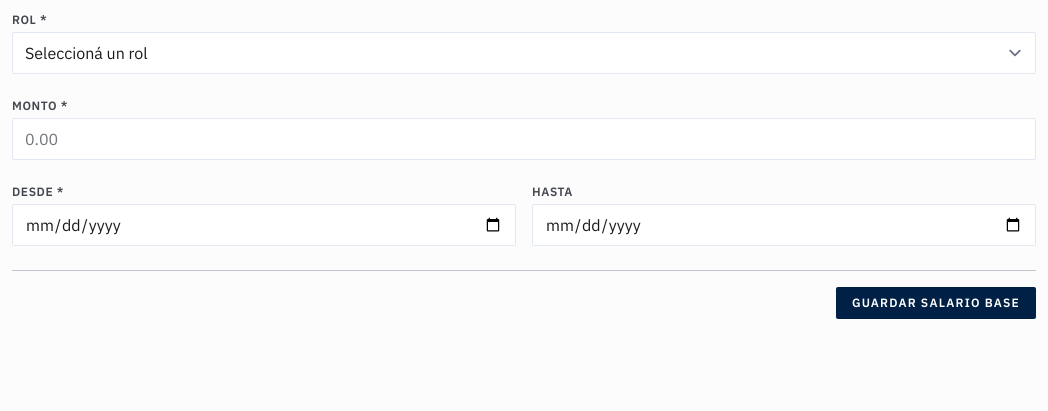
Test: SalarioBaseForm — alta y validaciones › maneja 409/422 de solapamiento sin perder el formulario
Select "PROFESOR" in the dropdown at (524, 53), box [12, 32, 1036, 74]
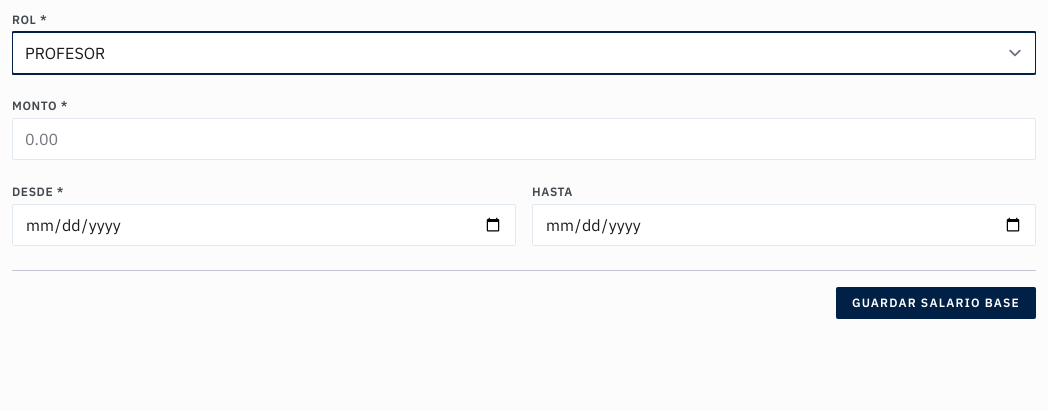
Type "80000" into the number field with placeholder "0.00" at (524, 139), box [12, 118, 1036, 160]
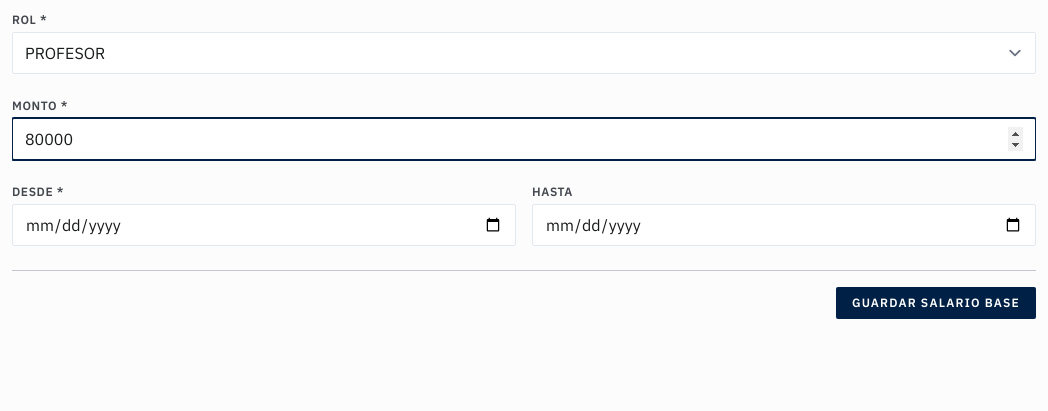
Type "2024-01-01" into the date field below "Desde *" at (264, 225), box [12, 204, 516, 246]
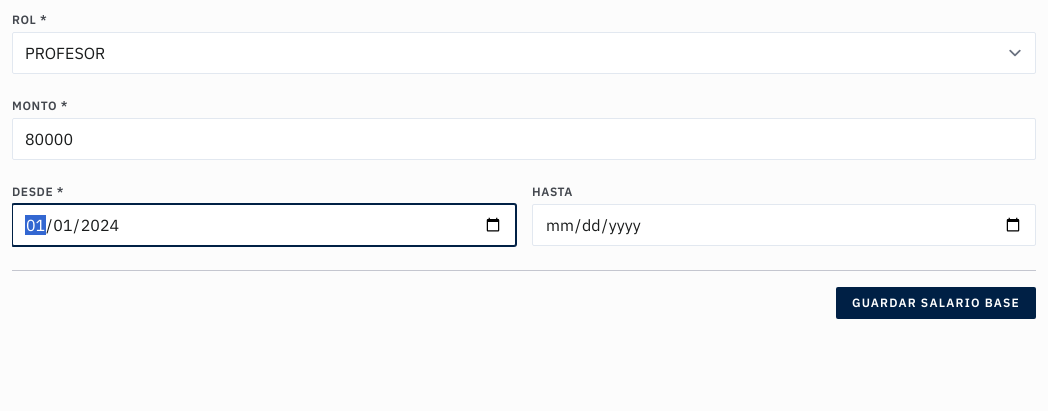
Click the button "Guardar salario base" at (936, 303), box [836, 287, 1036, 319]
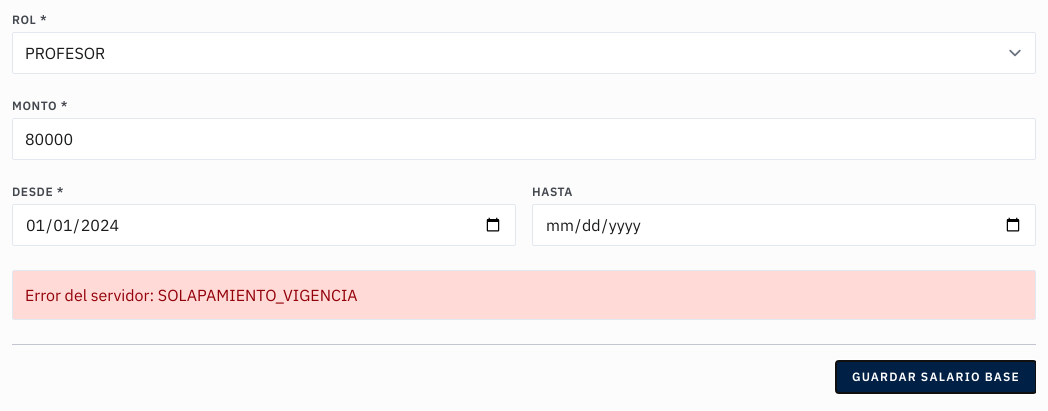
Expected: the button "Guardar salario base" is shown, [836, 361, 1036, 393]
Now the text "Error del servidor: SOLAPAMIENTO_VIGENCIA" is shown, box [12, 270, 1036, 320]
